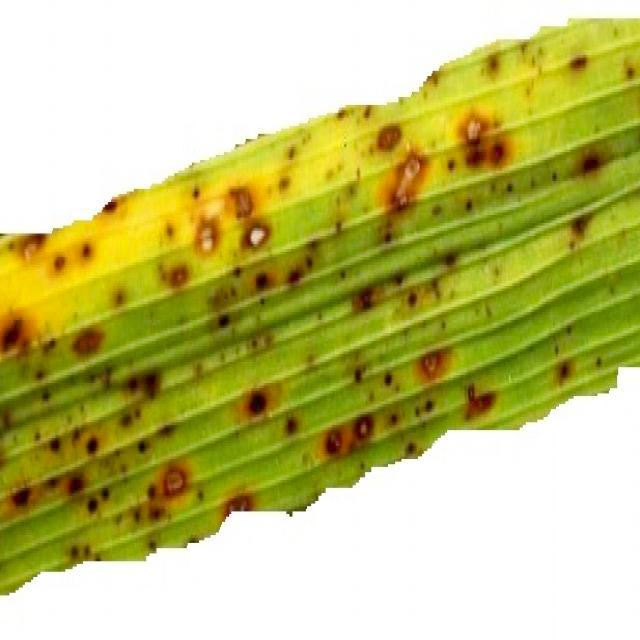Brownspot: (457, 111, 511, 168), (381, 150, 428, 212), (238, 385, 276, 421), (0, 314, 32, 352), (416, 349, 451, 383), (465, 385, 497, 420), (159, 463, 188, 498), (125, 370, 161, 398), (194, 218, 220, 256), (72, 327, 104, 357), (241, 220, 270, 249), (229, 186, 253, 218), (224, 492, 254, 517), (18, 234, 46, 259), (577, 149, 603, 175), (164, 264, 190, 289), (377, 124, 401, 150), (352, 414, 373, 441), (323, 427, 343, 455), (352, 287, 375, 311), (570, 214, 591, 238), (11, 486, 31, 507), (65, 473, 85, 494), (556, 360, 572, 384), (254, 271, 273, 291), (286, 267, 303, 285), (284, 416, 299, 436), (569, 54, 587, 70), (112, 287, 126, 307), (487, 53, 499, 75), (80, 242, 94, 260), (102, 198, 117, 213), (53, 254, 66, 271), (86, 436, 98, 454), (278, 176, 290, 191), (49, 436, 60, 452), (165, 222, 175, 239), (625, 64, 635, 80), (336, 107, 346, 119), (192, 186, 200, 200), (287, 145, 295, 159), (363, 105, 371, 118)
